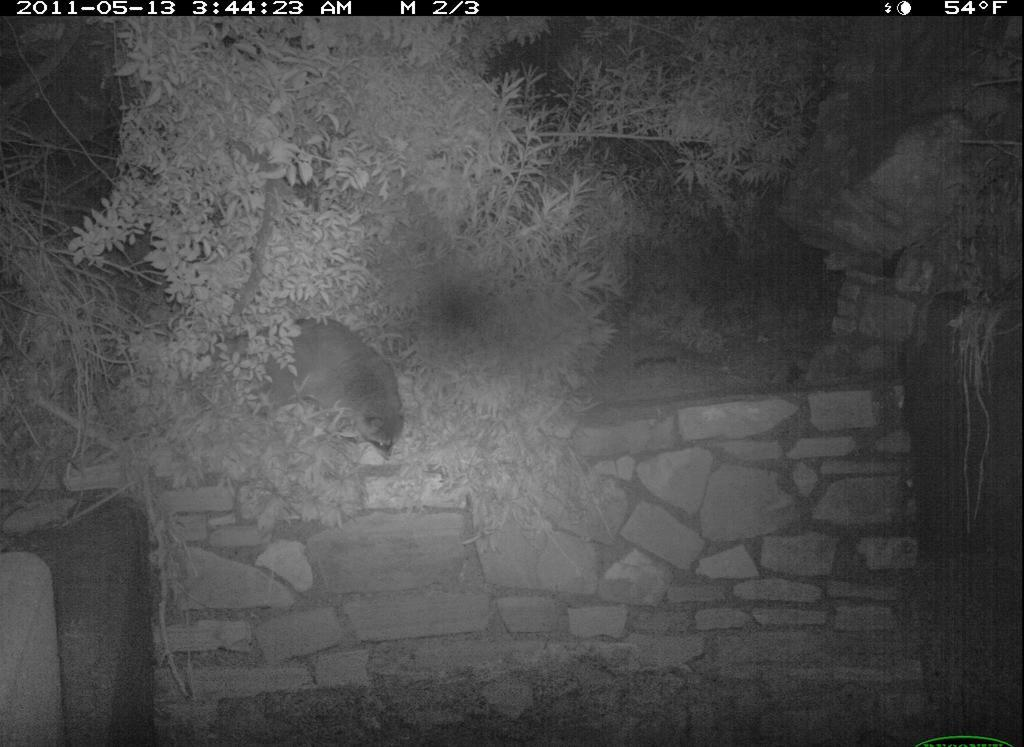raccoon: (195, 305, 415, 473)
